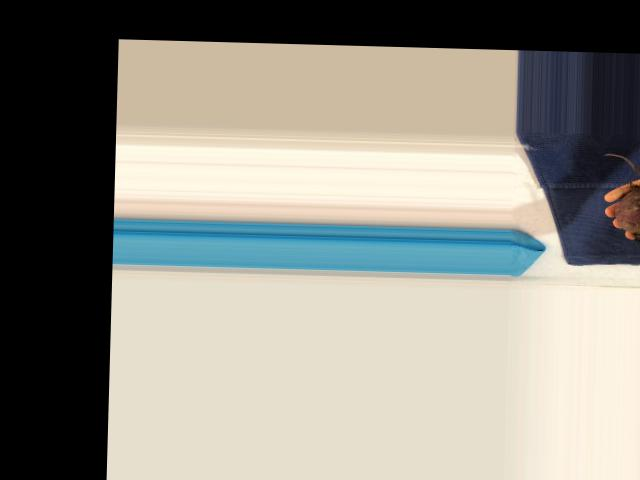beet: (599, 153, 640, 246)
